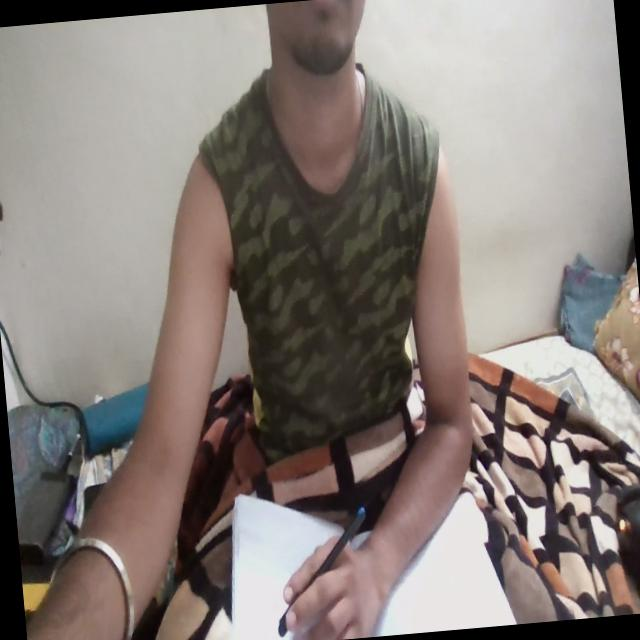pen: (246, 486, 376, 622)
